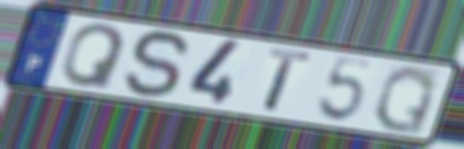4: (185, 35, 241, 111)
5: (314, 54, 378, 124)
Q: (370, 63, 440, 137), (59, 21, 129, 91)
S: (121, 28, 194, 101)
T: (260, 46, 315, 116)
